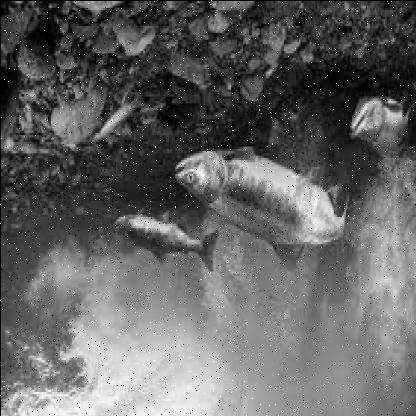fish: (174, 146, 354, 274), (112, 209, 222, 274), (346, 88, 415, 164)
